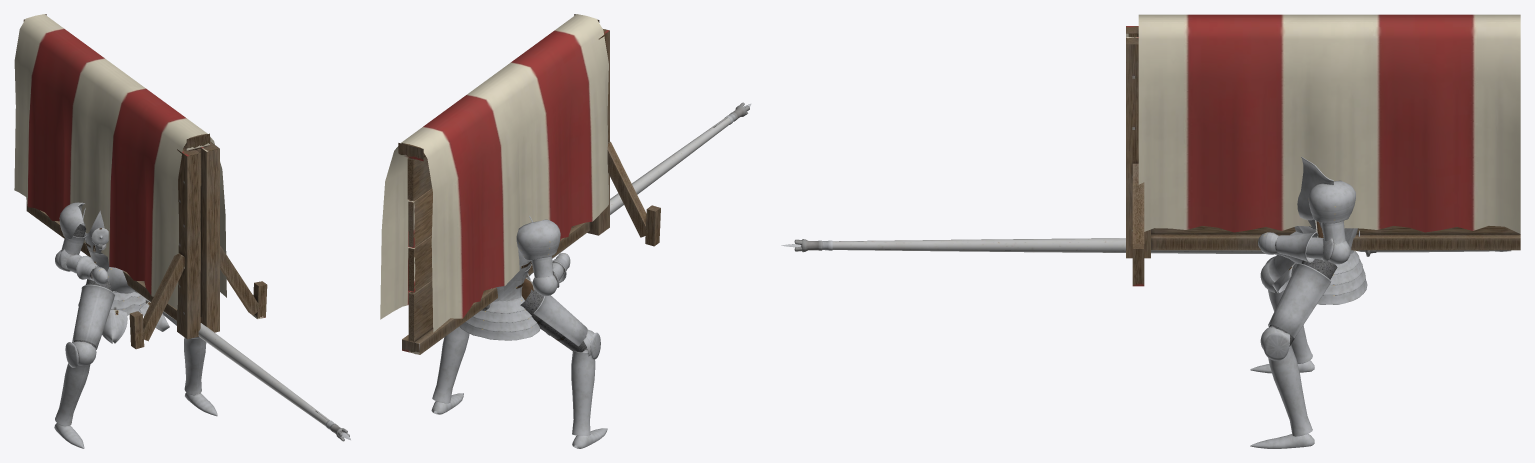
File: armour_set.glb
3 views of the same model, side by side, from view 1: azimuth 30°, elevation 25°; view 2: azimuth 150°, elevation 25°; view 3: azimuth 270°, elevation 25° (orthographic). The views are drawn at different scales.
Parts seen in each view (by area): view 1: tilt_cloth, tilt_barrier, rider_leg_r, lance_fore, rider_leg_l, torso_arm_r, rider_fauld, torso_pauldron_r, torso_cuirass, lance_vamplate; view 2: tilt_cloth, tilt_barrier, rider_leg_r, rider_fauld, rider_leg_l, lance_fore, torso_pauldron_r, torso_arm_r, torso_cuirass; view 3: tilt_cloth, tilt_barrier, rider_leg_l, lance_fore, torso_pauldron_l, torso_arm_l, rider_fauld, rider_leg_r, lance_rear.
Boxes of the visible parts, x1=… form: tilt_cloth: x1=14, y1=14, x2=226, y2=309; tilt_barrier: x1=23, y1=14, x2=267, y2=349; rider_leg_r: x1=54, y1=279, x2=114, y2=448; lance_fore: x1=198, y1=323, x2=329, y2=426; rider_leg_l: x1=163, y1=312, x2=217, y2=416; torso_arm_r: x1=55, y1=224, x2=108, y2=284; rider_fauld: x1=78, y1=284, x2=169, y2=343; torso_pauldron_r: x1=59, y1=202, x2=108, y2=245; torso_cuirass: x1=82, y1=207, x2=109, y2=271; lance_vamplate: x1=107, y1=267, x2=137, y2=293; tilt_cloth: x1=380, y1=14, x2=608, y2=332; tilt_barrier: x1=398, y1=14, x2=660, y2=354; rider_leg_r: x1=520, y1=289, x2=607, y2=448; rider_fauld: x1=459, y1=296, x2=549, y2=340; rider_leg_l: x1=431, y1=326, x2=469, y2=414; lance_fore: x1=610, y1=117, x2=730, y2=214; torso_pauldron_r: x1=516, y1=219, x2=560, y2=260; torso_arm_r: x1=531, y1=253, x2=570, y2=295; torso_cuirass: x1=499, y1=216, x2=532, y2=301; tilt_cloth: x1=1138, y1=14, x2=1520, y2=233; tilt_barrier: x1=1126, y1=26, x2=1520, y2=286; rider_leg_l: x1=1250, y1=259, x2=1337, y2=448; lance_fore: x1=832, y1=238, x2=1125, y2=252; torso_pauldron_l: x1=1297, y1=157, x2=1355, y2=223; torso_arm_l: x1=1258, y1=221, x2=1350, y2=264; rider_fauld: x1=1272, y1=250, x2=1367, y2=304; rider_leg_r: x1=1250, y1=255, x2=1314, y2=373; lance_rear: x1=1151, y1=250, x2=1511, y2=253.
Bounding box in the file's own units: 1.03 × 2.25 × 3.88.
Materials: 8 (8 with a texture image).
